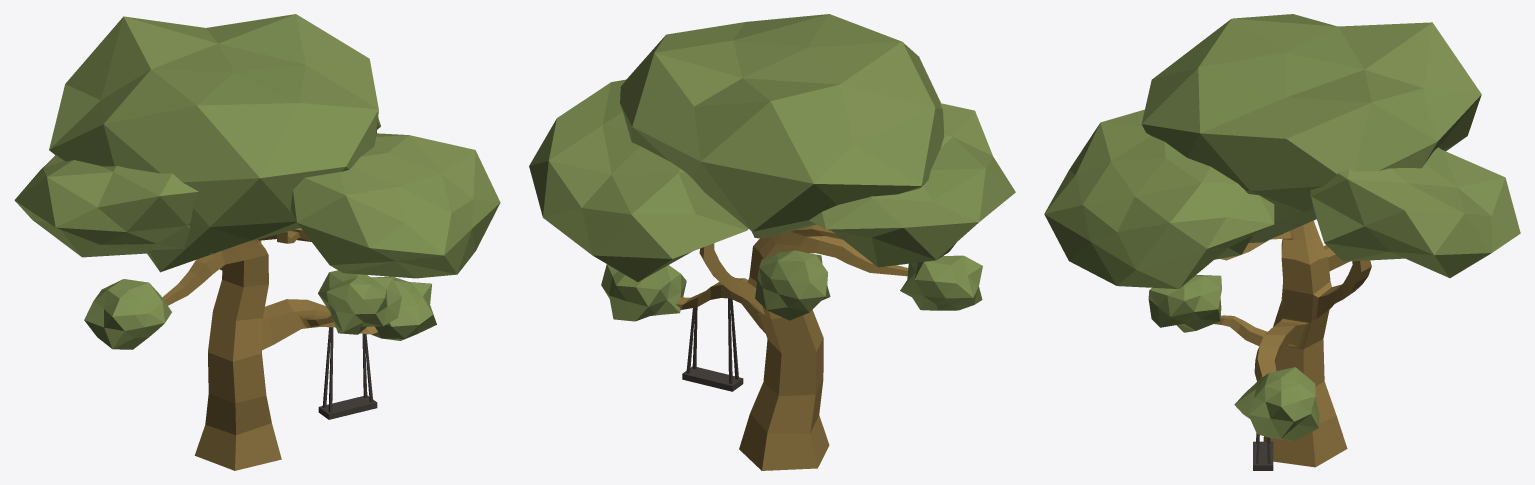
Rendered from big_tree_with_swing.fbx.
The picture shows the model from 3 angles, left to right: view 1: azimuth 30°, elevation 25°; view 2: azimuth 150°, elevation 25°; view 3: azimuth 270°, elevation 25°; orthographic projection. The views are drawn at different scales.
Parts seen in each view (by area): view 1: Cylinder.004; view 2: Cylinder.004; view 3: Cylinder.004.
Part boxes in pixels (bbox=[...]): Cylinder.004: bbox=[14, 14, 500, 470]; Cylinder.004: bbox=[529, 14, 1015, 470]; Cylinder.004: bbox=[1044, 14, 1520, 470].
Size of the model in its own units: 898 by 883 by 950.
